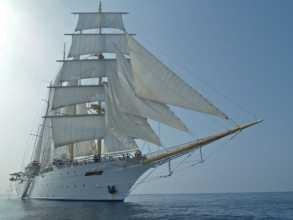fanchuan: (7, 1, 250, 201)
